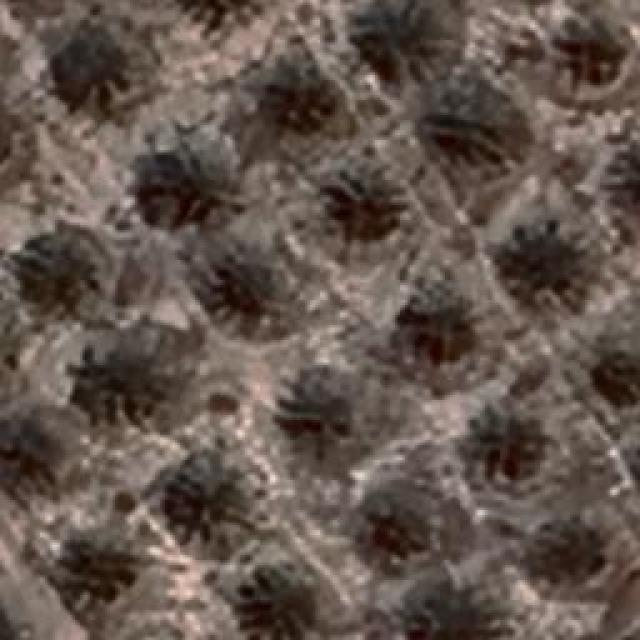PalmTree: (29, 78, 277, 604), (72, 73, 626, 182), (52, 10, 156, 105), (162, 452, 260, 546), (142, 132, 240, 225), (436, 88, 524, 180), (348, 0, 438, 78), (78, 345, 166, 423), (58, 525, 132, 615), (15, 230, 93, 312), (325, 160, 405, 235), (394, 298, 484, 364), (288, 374, 362, 452), (211, 258, 291, 326), (477, 412, 545, 492), (510, 222, 582, 296), (262, 66, 338, 132), (559, 21, 629, 89), (370, 500, 430, 575), (0, 422, 58, 498), (528, 525, 598, 583), (411, 600, 499, 640), (595, 345, 640, 415), (180, 0, 258, 38), (620, 142, 640, 222)
